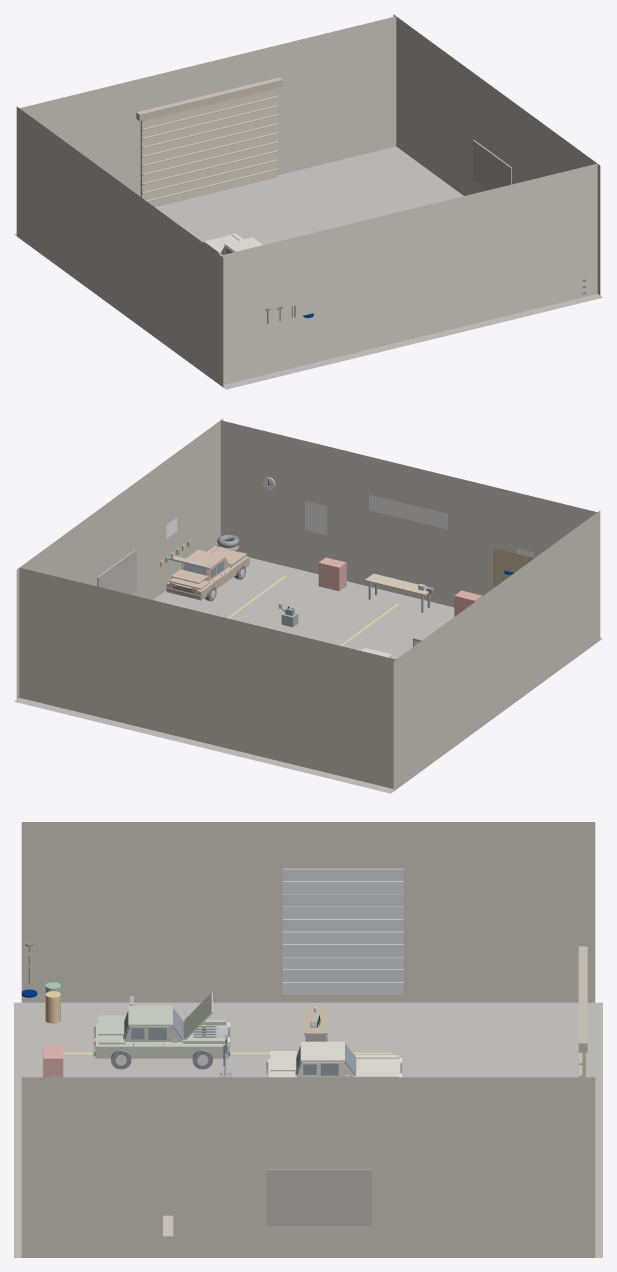
3 renders of one model, top to bottom at view 1: azimuth 30°, elevation 25°; view 2: azimuth 150°, elevation 25°; view 3: azimuth 270°, elevation 25°, orthographic. The views are drawn at different scales.
Parts seen in each view (by area): view 1: object 5, object 8, object 6, object 1, object 7, shutter, object 20, object 91; view 2: object 8, object 5, object 6, object 7, object 1, object 21, object 91, object 22, tool_cabinet_2, car_3, object 76, object 264; view 3: object 7, object 6, object 1, object 91, car (×2), object 84, object 89, object 80, object 81, object 83, object 85, object 87 (+9 smaller).
Boxes of the visible parts, left/top/right/bottom form: object 5: left=221, top=163, right=597, bottom=384; object 8: left=19, top=16, right=396, bottom=196; object 6: left=16, top=106, right=223, bottom=387; object 1: left=14, top=146, right=602, bottom=389; object 7: left=393, top=14, right=600, bottom=295; shutter: left=140, top=89, right=277, bottom=206; object 20: left=136, top=77, right=282, bottom=121; object 91: left=472, top=140, right=511, bottom=190; object 8: left=19, top=567, right=395, bottom=788; object 5: left=220, top=420, right=597, bottom=607; object 6: left=393, top=510, right=600, bottom=791; object 7: left=16, top=418, right=223, bottom=699; object 1: left=14, top=557, right=602, bottom=793; object 21: left=369, top=494, right=447, bottom=529; object 91: left=97, top=549, right=136, bottom=594; object 22: left=493, top=548, right=534, bottom=586; tool_cabinet_2: left=318, top=557, right=346, bottom=591; car_3: left=166, top=556, right=249, bottom=600; object 76: left=305, top=500, right=327, bottom=535; object 264: left=365, top=573, right=428, bottom=595; object 7: left=21, top=1077, right=595, bottom=1257; object 6: left=21, top=822, right=595, bottom=1002; object 1: left=14, top=1002, right=602, bottom=1257; object 91: left=266, top=1169, right=371, bottom=1226; car (×2): left=95, top=1005, right=228, bottom=1058; object 84: left=282, top=931, right=403, bottom=944; object 89: left=282, top=868, right=403, bottom=881; object 80: left=282, top=982, right=403, bottom=994; object 81: left=282, top=969, right=403, bottom=981; object 83: left=282, top=944, right=403, bottom=956; object 85: left=282, top=919, right=403, bottom=931; object 87: left=282, top=894, right=403, bottom=906.
Bounding box in the file's own units: 21.6 × 6.6 × 19.5.
